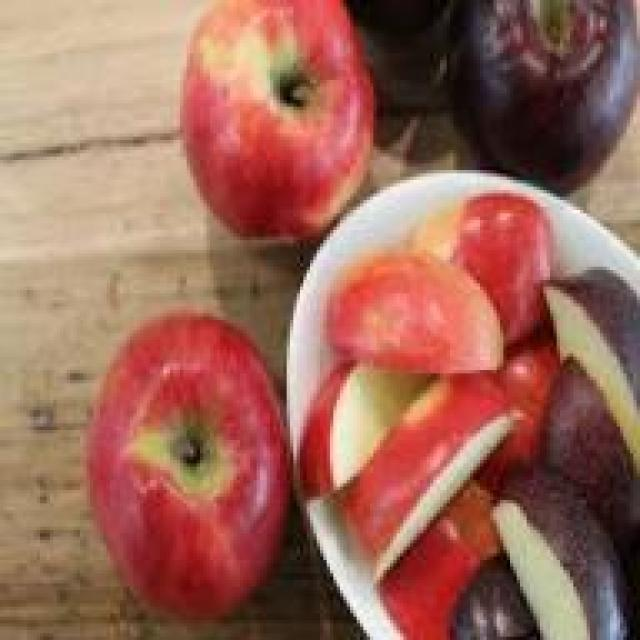apple: (90, 330, 287, 600), (183, 7, 377, 220), (450, 3, 630, 184)
